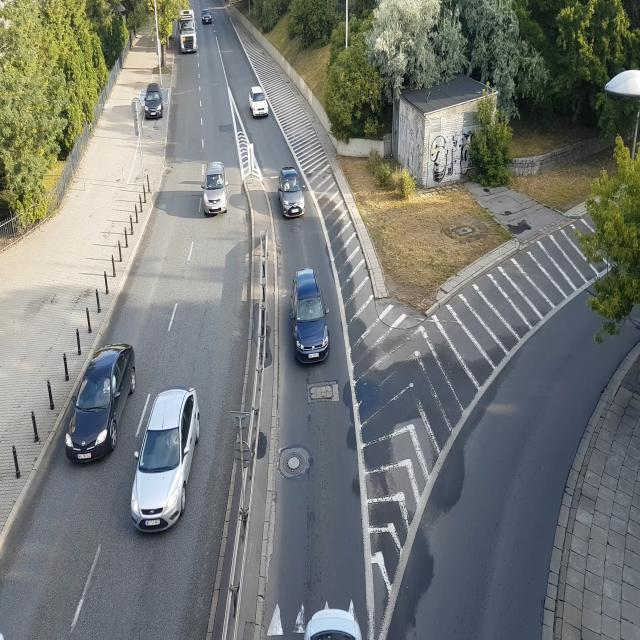car: (132, 380, 210, 558), (63, 351, 128, 466), (301, 597, 370, 640), (203, 162, 229, 217), (278, 168, 304, 217), (143, 89, 165, 119), (251, 89, 272, 118), (202, 12, 212, 24)
truck: (172, 14, 199, 53)
